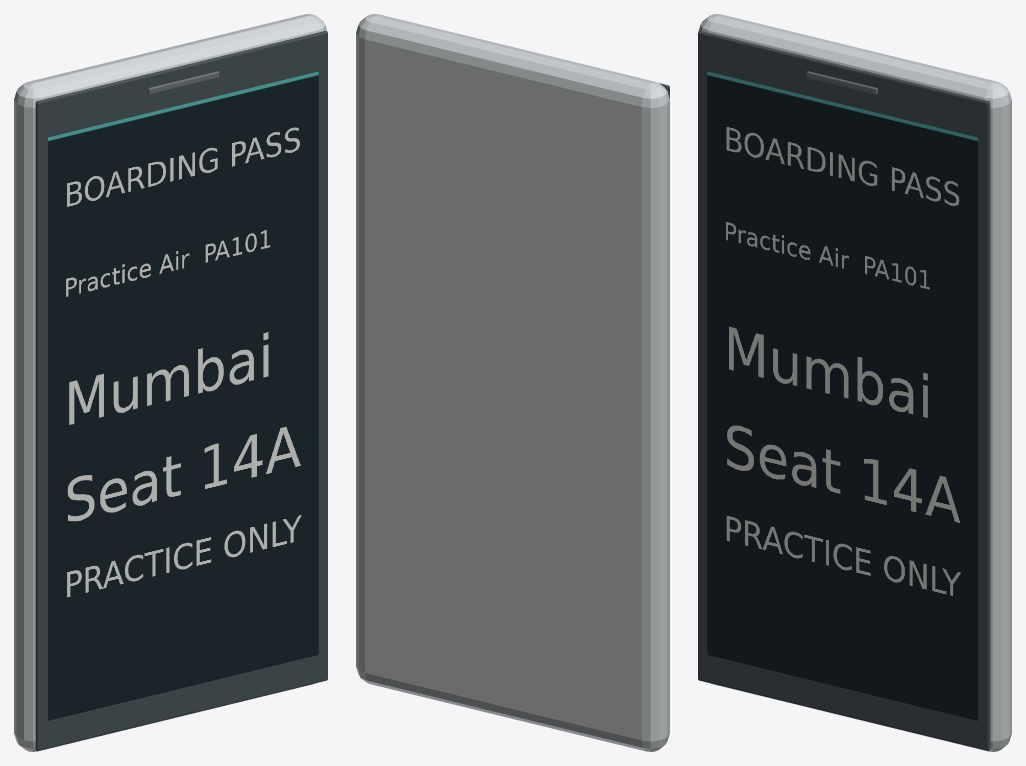
The model's file is smartphone.glb.
The picture shows the model from 3 angles, left to right: view 1: azimuth 30°, elevation 25°; view 2: azimuth 150°, elevation 25°; view 3: azimuth 330°, elevation 25°; orthographic projection.
Visible parts, largest first — view 1: PhoneScreen, PhoneGlass, PhoneFrame, Earpiece; view 2: PhoneFrame; view 3: PhoneScreen, PhoneGlass, PhoneFrame, Earpiece.
Part boxes in pixels (x1,y1,x2,y2): PhoneScreen: (48,71,318,720); PhoneGlass: (35,31,327,750); PhoneFrame: (14,14,327,751); Earpiece: (148,71,219,94); PhoneFrame: (356,14,669,751); PhoneScreen: (707,71,977,720); PhoneGlass: (698,31,990,750); PhoneFrame: (698,14,1011,751); Earpiece: (806,71,877,94).
Size of the model in its own units: 0.074 by 0.153 by 0.0096.
4 materials, 1 textured.
